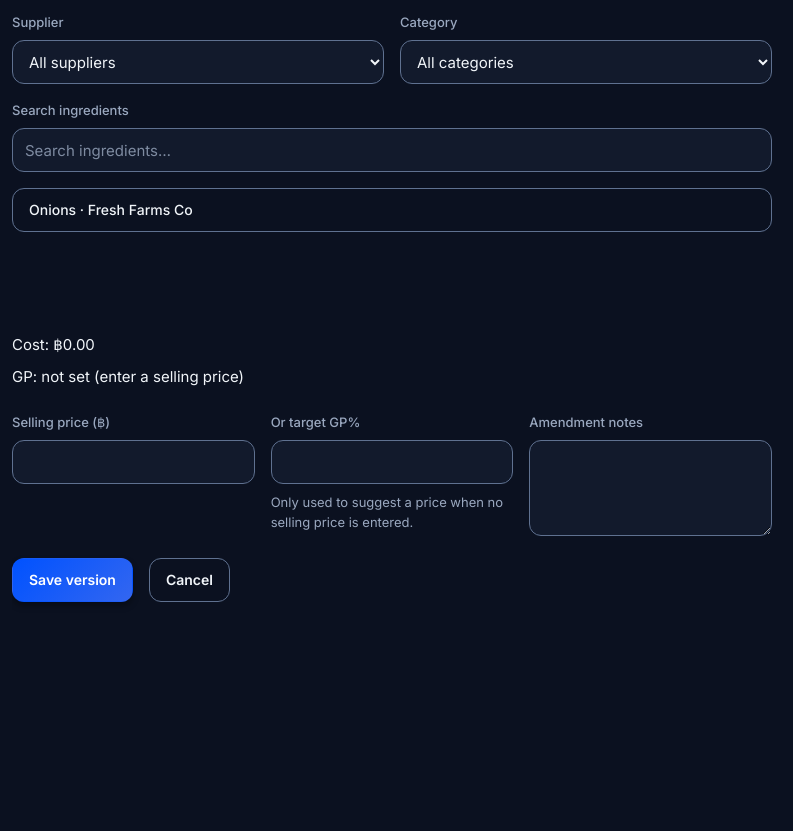
adding a line and setting a selling price shows live cost and GP
The image size is (793, 831).
Click the button "Onions · Fresh Farms Co". click: (53, 210)
box: [12,188,772,232]
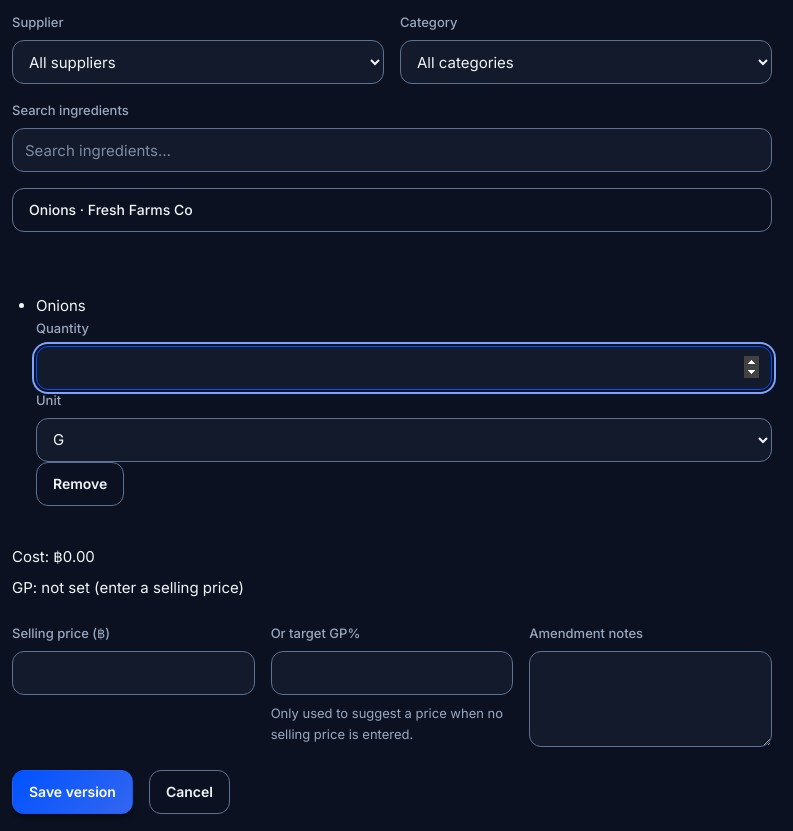
Type "250" into the number field labelled "Quantity". click: (404, 368)
box: [36,346,772,390]
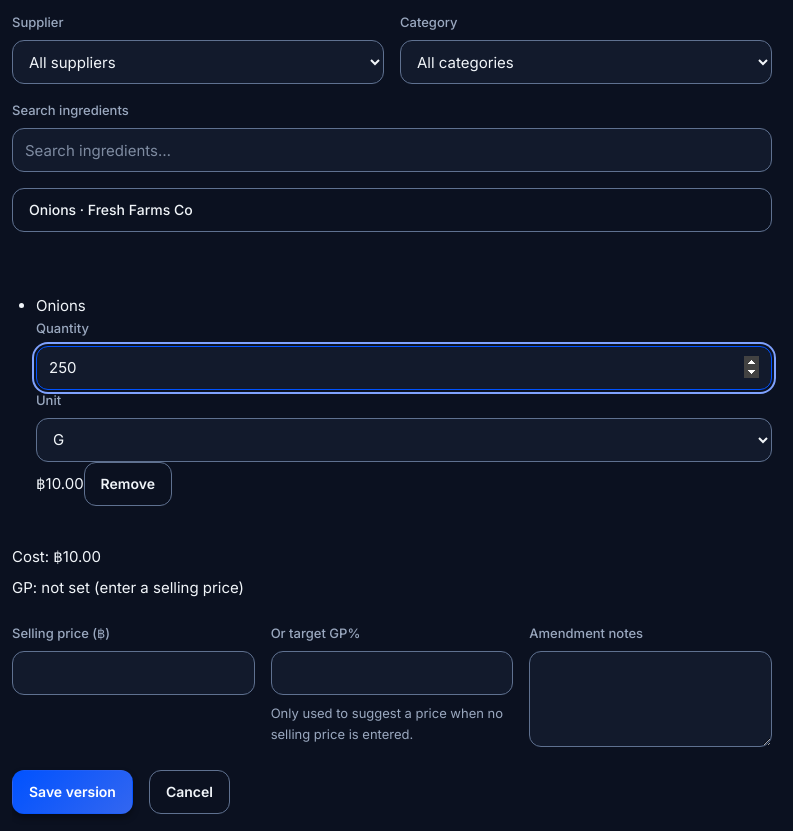
Type "40" into the number field labelled "Selling price (฿)". click: (133, 674)
box: [12,652,255,696]
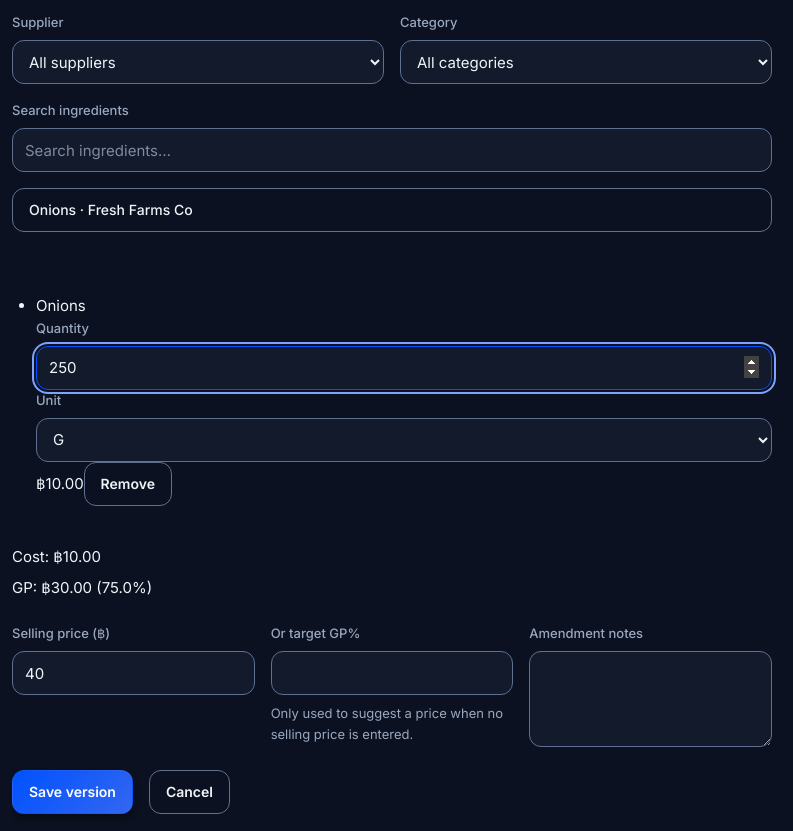
Expected: the text "Cost: ฿10.00" is shown, [12,547,101,566]
Expected: the text "GP: ฿30.00 (75.0%)" is shown, [12,578,152,597]
